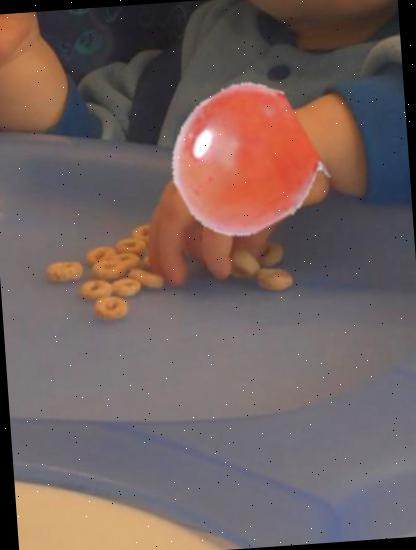Redcurrant: (163, 82, 320, 239)
